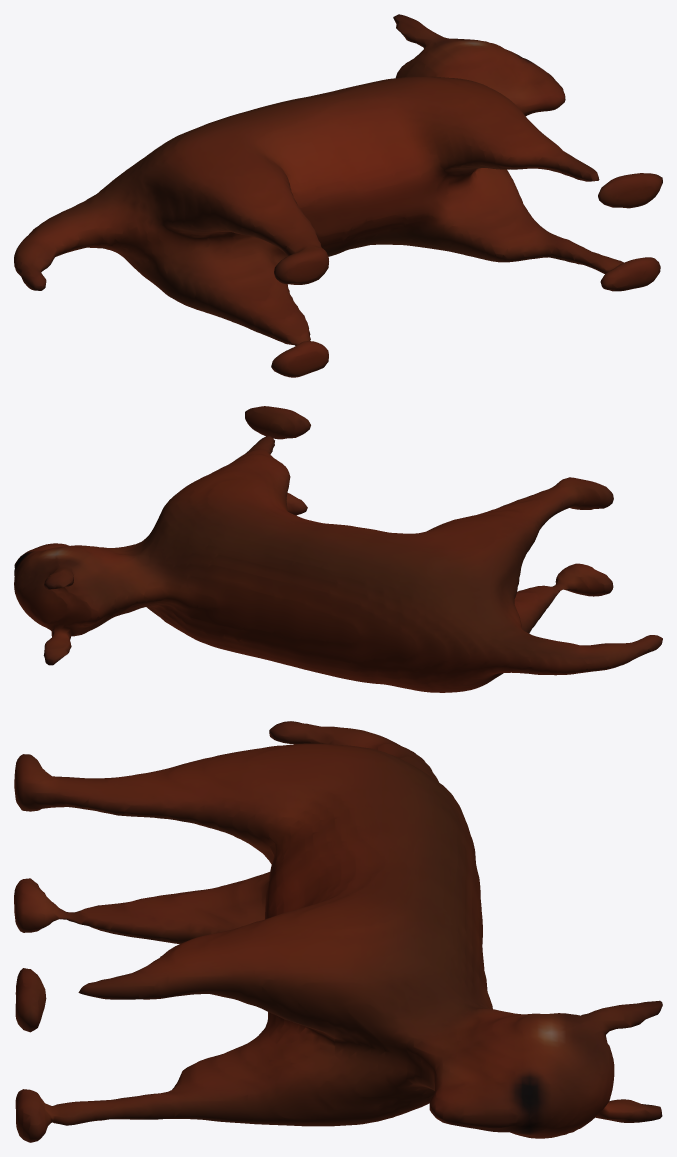
3 renders of one model, top to bottom at view 1: azimuth 30°, elevation 25°; view 2: azimuth 150°, elevation 25°; view 3: azimuth 270°, elevation 25°, orthographic. The views are drawn at different scales.
Parts seen in each view (by area): view 1: plyFile; view 2: plyFile; view 3: plyFile.
Boxes of the visible parts, x1,y1,x2,y2 form: plyFile: (14,14,662,377); plyFile: (14,406,662,692); plyFile: (14,721,662,1142).
Size of the model in its own units: 198 by 46.77 by 139.
